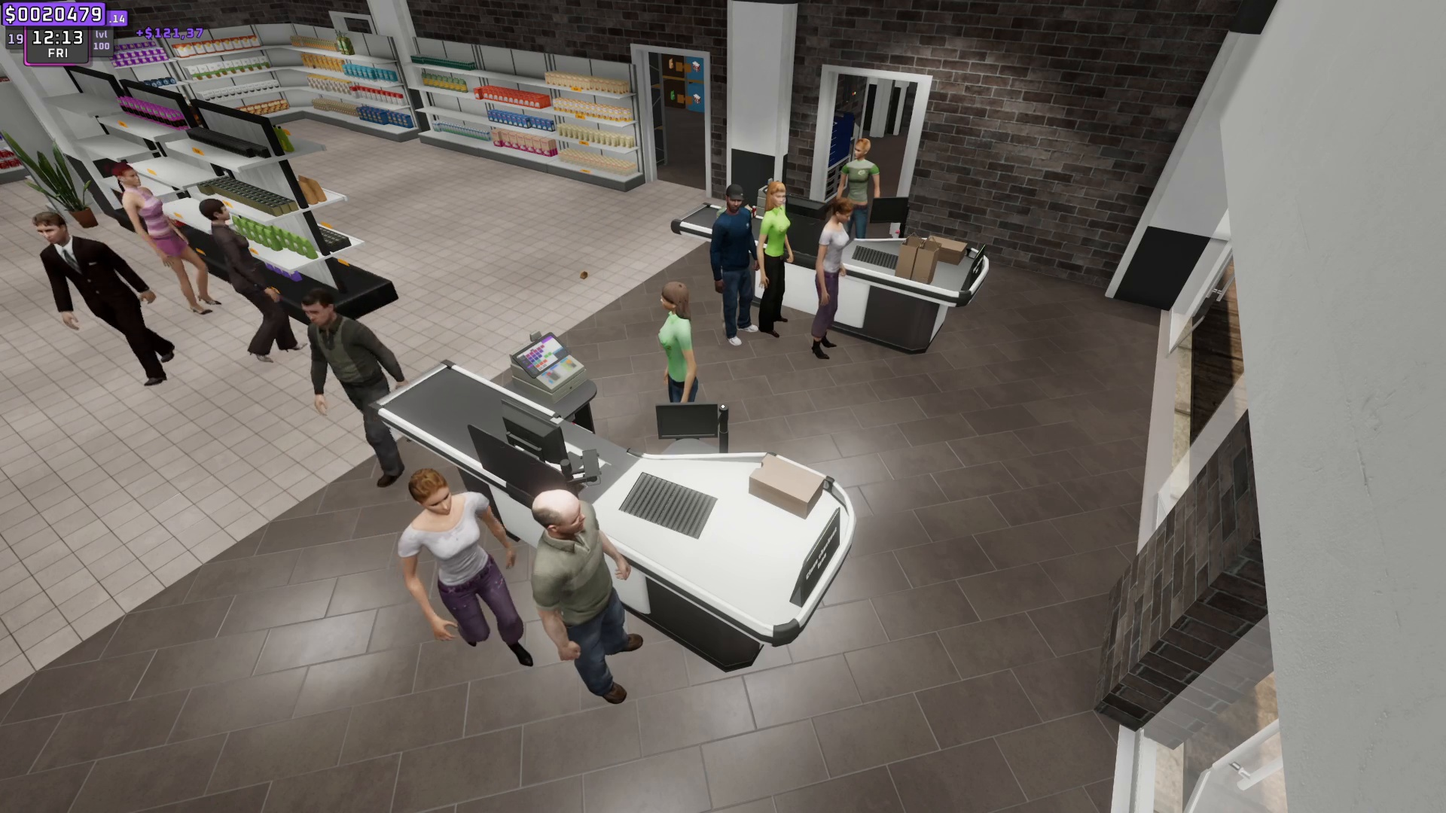Client: (517, 485, 645, 698), (401, 472, 524, 671), (301, 297, 416, 482), (710, 187, 762, 335), (757, 179, 800, 336), (820, 202, 859, 356)
Employee: (648, 278, 707, 404), (842, 139, 878, 200)
